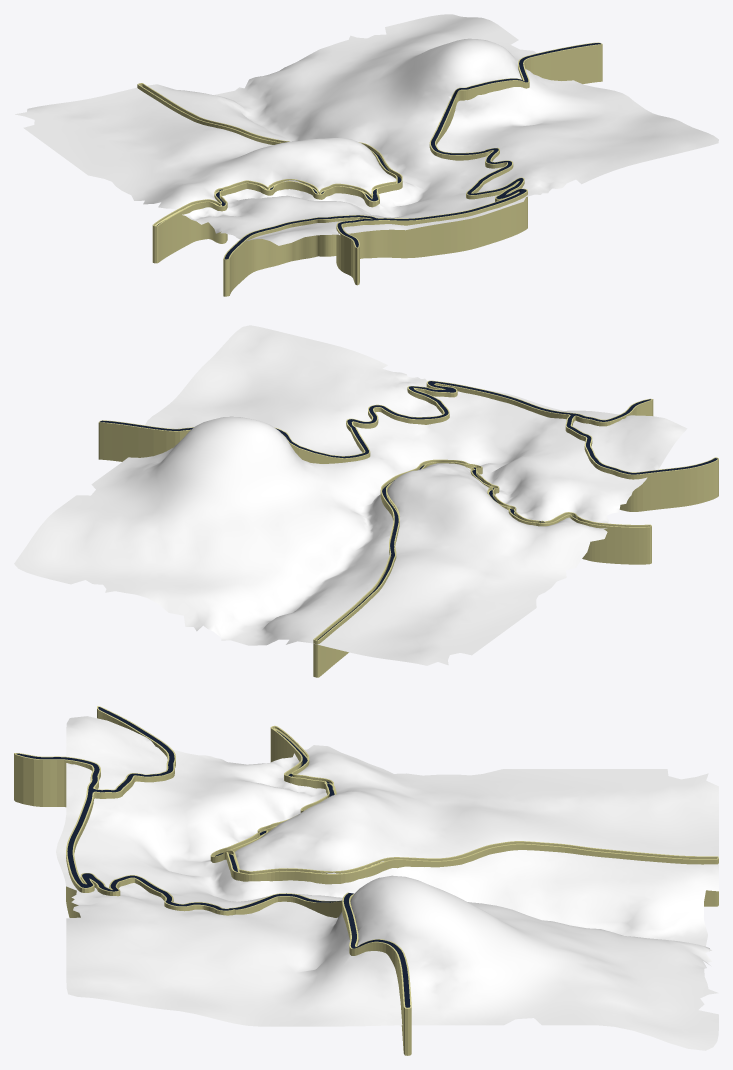
The model's file is demoTerrain.glb.
3 views of the same model, one above another, from view 1: azimuth 30°, elevation 25°; view 2: azimuth 150°, elevation 25°; view 3: azimuth 270°, elevation 25° (orthographic). The views are drawn at different scales.
Parts seen in each view (by area): view 1: Landscape.008, Joint Curve; view 2: Landscape.008, Joint Curve; view 3: Landscape.008, Joint Curve.
Boxes of the visible parts, x1,y1,x2,y2 form: Landscape.008: (15,14,718,245); Joint Curve: (137,42,602,296); Landscape.008: (14,325,687,665); Joint Curve: (98,380,718,677); Landscape.008: (56,716,718,1050); Joint Curve: (14,706,718,1055).
Size of the model in its own units: 811 by 179 by 779.
